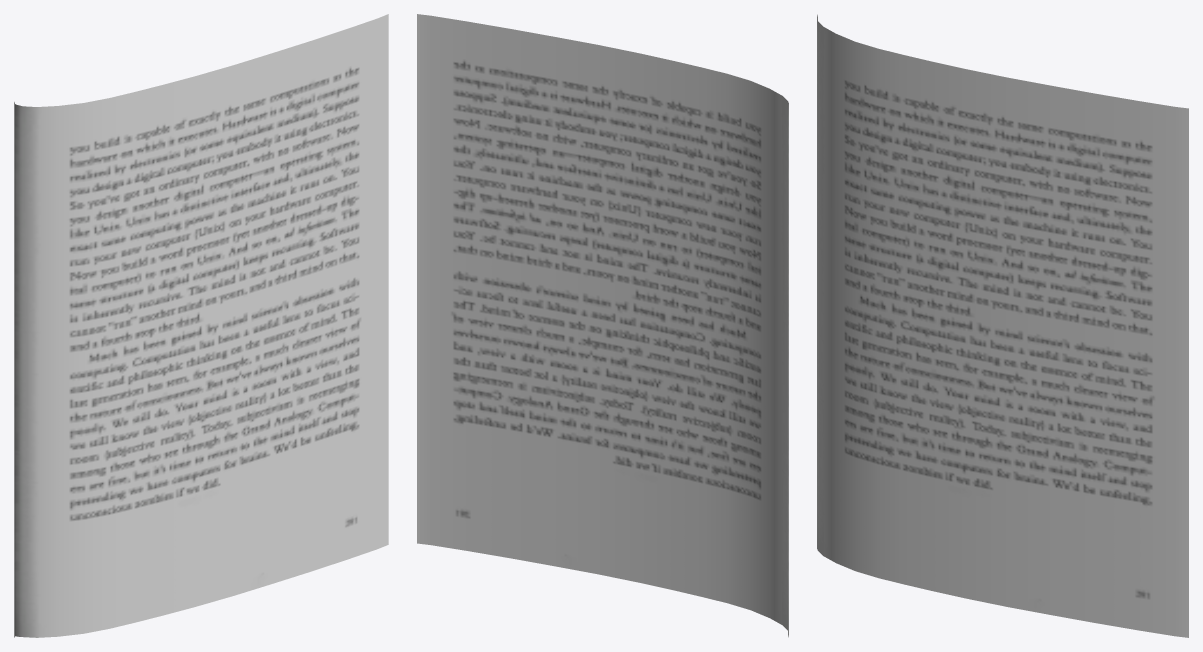
The model's file is MeshBook_25_0_GeomSubset_2.obj.
The picture shows the model from 3 angles, left to right: view 1: azimuth 30°, elevation 25°; view 2: azimuth 150°, elevation 25°; view 3: azimuth 330°, elevation 25°; orthographic projection.
Visible parts, largest first — view 1: MeshBook_25_0_GeomSubset_2; view 2: MeshBook_25_0_GeomSubset_2; view 3: MeshBook_25_0_GeomSubset_2.
Boxes of the visible parts, left/top/right/bottom form: MeshBook_25_0_GeomSubset_2: left=14, top=14, right=388, bottom=637; MeshBook_25_0_GeomSubset_2: left=417, top=14, right=788, bottom=637; MeshBook_25_0_GeomSubset_2: left=817, top=14, right=1188, bottom=637.
Bounding box in the file's own units: 0.2181 × 0.2998 × 0.0177.
